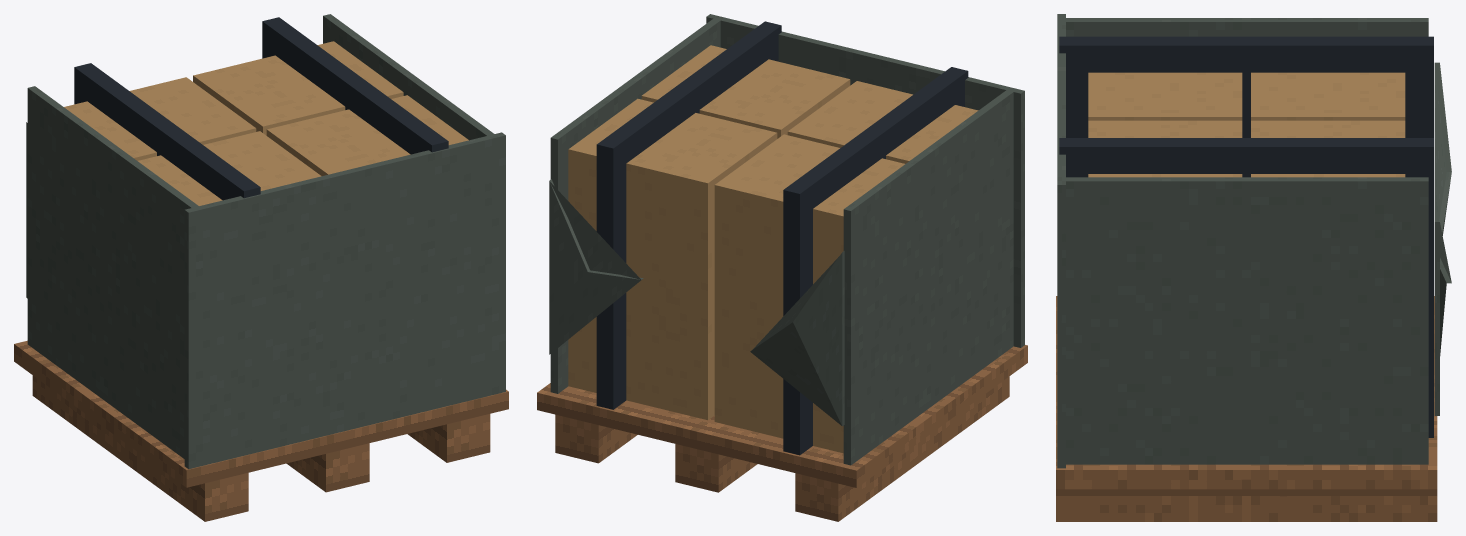
The model's file is f_pallet_belted_open.glb.
The picture shows the model from 3 angles, left to right: view 1: azimuth 30°, elevation 25°; view 2: azimuth 150°, elevation 25°; view 3: azimuth 270°, elevation 25°; orthographic projection. The views are drawn at different scales.
Parts seen in each view (by area): view 1: block_cover-back, block_cover-side (×2), block_exposed-carton (×4), block_deck, block_tie-down-0.28, block_tie-down--0.28, block_skid--0.36, block_skid-0.36, block_skid-0; view 2: block_exposed-carton (×4), block_cover-side (×2), block_torn-cover-flap (×2), block_deck, block_tie-down-0.28, block_tie-down--0.28, block_cover-back, block_skid--0.36, block_skid-0.36, block_skid-0; view 3: block_cover-side (×2), block_exposed-carton (×4), block_tie-down--0.28, block_tie-down-0.28, block_skid-0.36, block_deck, block_torn-cover-flap (×2), block_cover-back.
Boxes of the visible parts, x1,y1,x2,y2 form: block_cover-back: (184, 132, 505, 469); block_cover-side (×2): (27, 14, 494, 458); block_exposed-carton (×4): (64, 41, 468, 205); block_deck: (14, 340, 508, 487); block_tie-down-0.28: (262, 17, 448, 154); block_tie-down--0.28: (74, 63, 260, 200); block_skid--0.36: (32, 375, 248, 521); block_skid-0.36: (407, 414, 490, 462); block_skid-0: (286, 443, 369, 492); block_exposed-carton (×4): (568, 45, 978, 453); block_cover-side (×2): (550, 18, 1013, 465); block_torn-cover-flap (×2): (549, 179, 844, 426); block_deck: (537, 345, 1027, 487); block_tie-down-0.28: (596, 21, 781, 409); block_tie-down--0.28: (783, 67, 968, 455); block_cover-back: (706, 14, 1024, 347); block_skid--0.36: (795, 376, 1009, 521); block_skid-0.36: (555, 414, 637, 463); block_skid-0: (675, 444, 757, 492); block_cover-side (×2): (1065, 18, 1428, 464); block_exposed-carton (×4): (1088, 72, 1405, 177); block_tie-down--0.28: (1059, 36, 1433, 137); block_tie-down-0.28: (1059, 138, 1433, 437); block_skid-0.36: (1056, 489, 1437, 521); block_deck: (1056, 296, 1437, 489); block_torn-cover-flap (×2): (1434, 62, 1451, 415); block_cover-back: (1057, 14, 1065, 468).
Size of the model in its own units: 0.96 by 0.91 by 0.924.
Materials: 1 (1 with a texture image).
